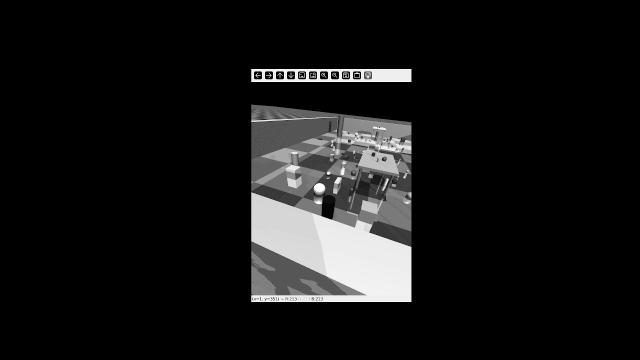cilindro: (319, 194, 335, 219), (337, 114, 343, 138), (290, 152, 300, 166), (349, 187, 354, 196), (340, 163, 347, 169), (384, 178, 389, 186), (376, 130, 380, 138), (376, 157, 380, 163), (329, 140, 335, 143), (318, 137, 323, 140), (389, 136, 392, 140), (386, 139, 390, 142), (398, 158, 401, 162), (402, 147, 406, 150), (395, 148, 399, 151), (332, 146, 336, 149), (365, 138, 368, 142), (382, 142, 384, 145), (355, 153, 357, 156), (379, 126, 380, 128)
cuadrado: (357, 200, 381, 227), (284, 166, 302, 182), (369, 169, 377, 176), (399, 137, 407, 144), (329, 153, 337, 159), (344, 154, 350, 161), (346, 138, 352, 143), (371, 152, 377, 157), (353, 150, 357, 155), (395, 161, 399, 164), (404, 173, 407, 177), (360, 136, 364, 138), (385, 142, 388, 144), (346, 132, 351, 133), (382, 127, 384, 129)
esfera: (313, 182, 327, 194), (349, 169, 357, 177), (326, 172, 332, 176), (382, 157, 387, 161), (391, 143, 395, 146), (369, 138, 372, 142), (406, 169, 409, 172), (354, 133, 358, 135), (356, 159, 359, 161), (357, 136, 359, 139), (388, 145, 390, 148), (397, 175, 400, 177), (377, 126, 379, 129)
rectangulo: (332, 177, 343, 187), (391, 178, 398, 184), (383, 138, 386, 141), (379, 141, 382, 144)
